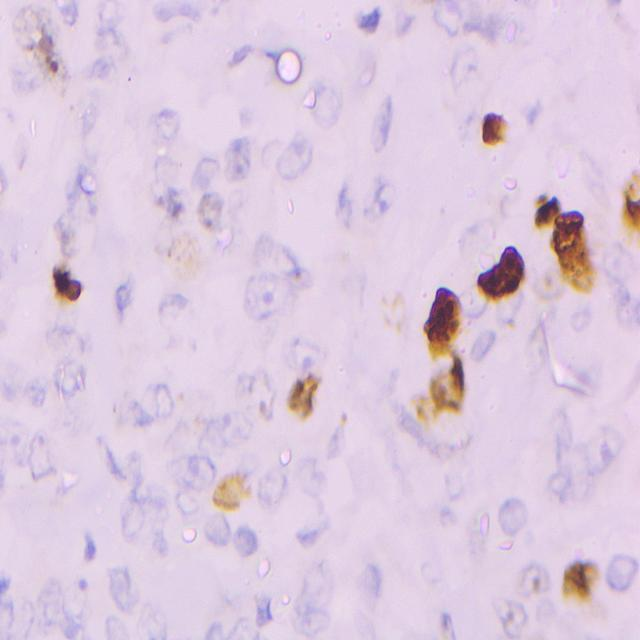Healthy cell: (334, 160, 394, 231), (238, 264, 300, 324), (243, 230, 304, 282), (296, 493, 344, 558), (36, 579, 83, 640), (607, 242, 640, 324), (46, 358, 94, 412), (152, 0, 219, 38), (298, 553, 334, 616), (270, 128, 310, 184), (5, 370, 51, 418), (466, 0, 514, 42), (546, 409, 579, 469), (112, 383, 152, 432), (168, 450, 214, 492), (130, 597, 174, 640), (0, 588, 36, 640), (102, 560, 136, 615), (422, 0, 466, 40), (609, 546, 639, 603), (95, 25, 131, 72), (449, 41, 489, 82), (22, 429, 51, 485), (310, 74, 340, 126), (455, 213, 492, 254), (232, 513, 264, 560), (226, 133, 253, 184), (3, 56, 37, 96), (115, 494, 144, 540), (112, 273, 136, 328), (149, 108, 182, 148), (502, 489, 531, 534), (351, 0, 381, 43), (384, 0, 416, 40), (156, 290, 192, 325), (258, 463, 286, 508), (469, 324, 499, 364), (203, 512, 231, 553), (186, 150, 218, 184), (79, 56, 115, 86), (94, 1, 128, 28), (155, 376, 171, 428), (94, 610, 120, 640), (54, 0, 78, 32), (79, 529, 99, 560)
cancer-cell-QiJm: (553, 203, 597, 299), (48, 198, 96, 274), (420, 284, 462, 364), (478, 243, 532, 301), (560, 556, 603, 620), (42, 315, 93, 368), (163, 227, 207, 285), (432, 353, 467, 419), (14, 2, 56, 54), (209, 466, 251, 514), (373, 283, 410, 332), (246, 364, 277, 422), (192, 189, 221, 250), (152, 179, 187, 229), (50, 265, 86, 313), (288, 373, 324, 419), (494, 593, 530, 638), (481, 104, 512, 156), (36, 34, 68, 84), (532, 184, 566, 230), (620, 163, 640, 240), (518, 556, 550, 599), (409, 387, 438, 422), (336, 400, 353, 430)
